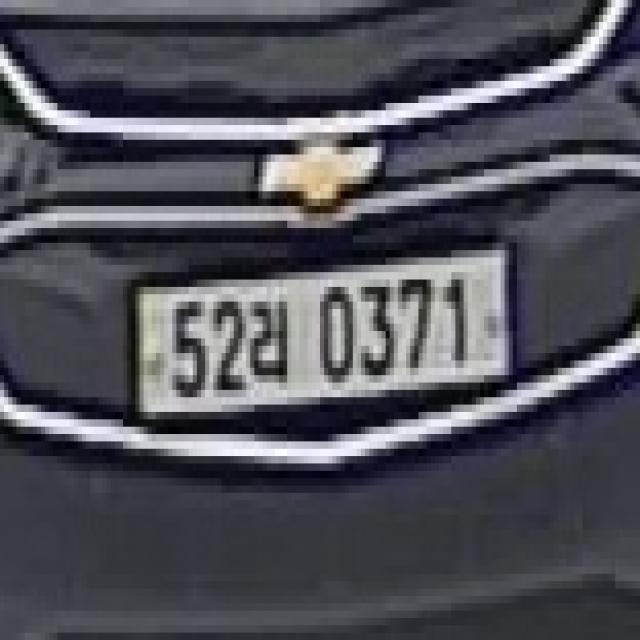0: (315, 284, 355, 391)
1: (442, 273, 474, 379)
2: (211, 293, 246, 393)
3: (358, 277, 396, 387)
5: (169, 306, 206, 394)
7: (399, 272, 436, 383)
leo: (250, 292, 300, 387)
license_plate: (119, 254, 513, 398)
